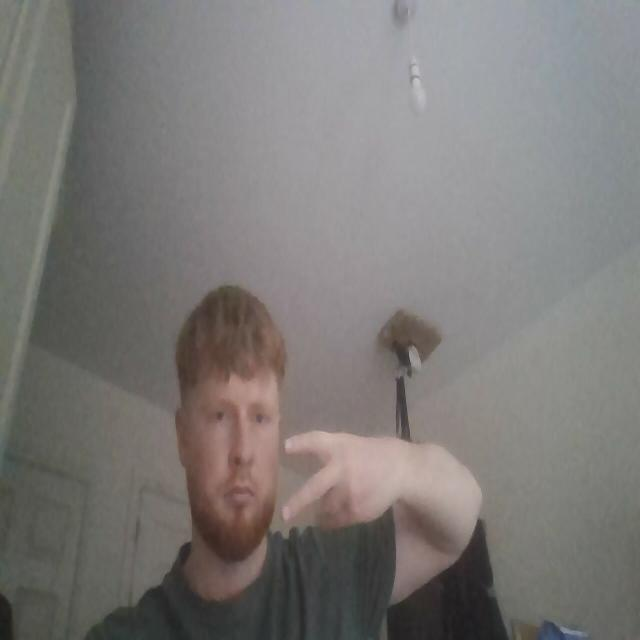scissors: (282, 430, 392, 532)
